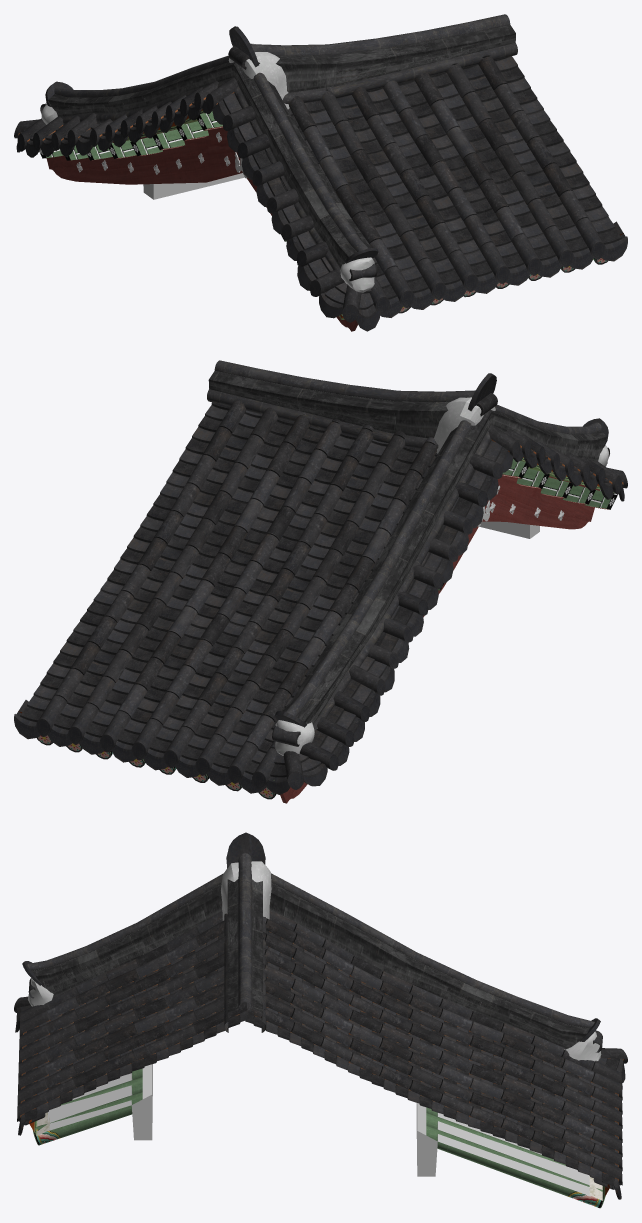
Rendered from SM_Giwa07A_a2.fbx.
The picture shows the model from 3 angles, top to bottom: view 1: azimuth 30°, elevation 25°; view 2: azimuth 150°, elevation 25°; view 3: azimuth 270°, elevation 25°; orthographic projection. The views are drawn at different scales.
Visible parts, largest first — view 1: SM_Giwa07A_a2; view 2: SM_Giwa07A_a2; view 3: SM_Giwa07A_a2.
Boxes of the visible parts, x1,y1,x2,y2 form: SM_Giwa07A_a2: (14,14,627,331); SM_Giwa07A_a2: (14,360,627,803); SM_Giwa07A_a2: (14,832,627,1208).
Size of the model in its own units: 293 by 562 by 267.
